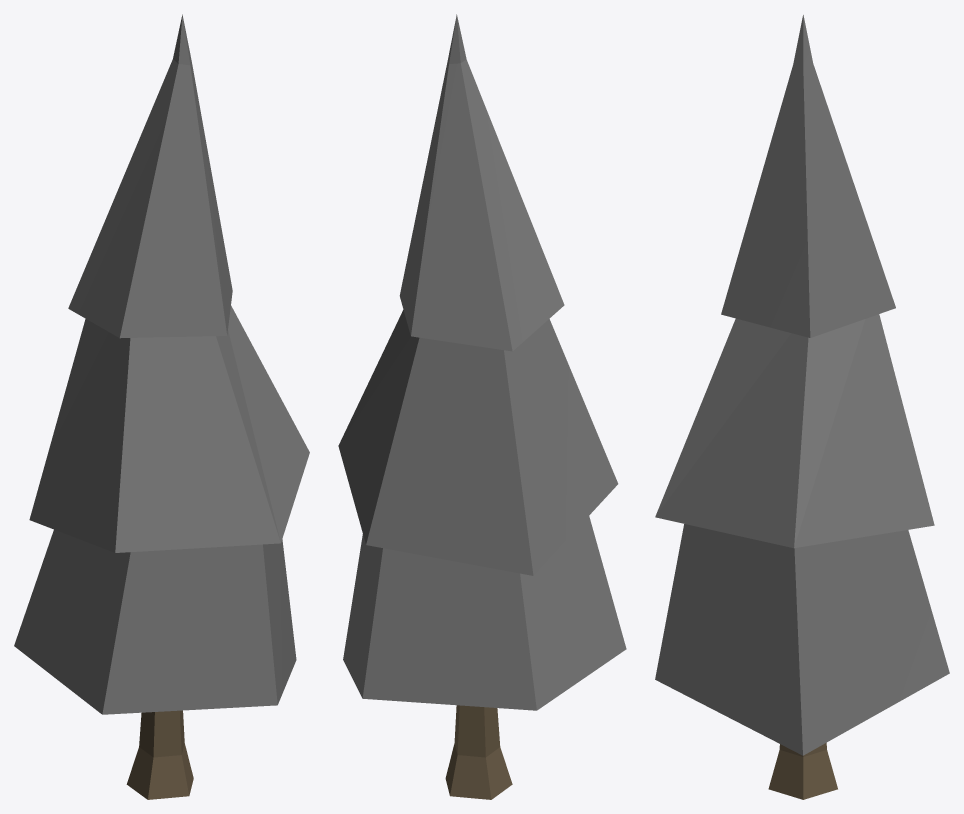
Rendered from Spruce_C.fbx.
3 renders of one model, left to right at view 1: azimuth 30°, elevation 25°; view 2: azimuth 150°, elevation 25°; view 3: azimuth 270°, elevation 25°, orthographic.
Parts seen in each view (by area): view 1: Spruce_C; view 2: Spruce_C; view 3: Spruce_C.
Part boxes in pixels (<box>): Spruce_C: <box>14,14,309,799</box>; Spruce_C: <box>338,14,626,799</box>; Spruce_C: <box>655,15,949,799</box>.
Size of the model in its own units: 109 by 322 by 110.
